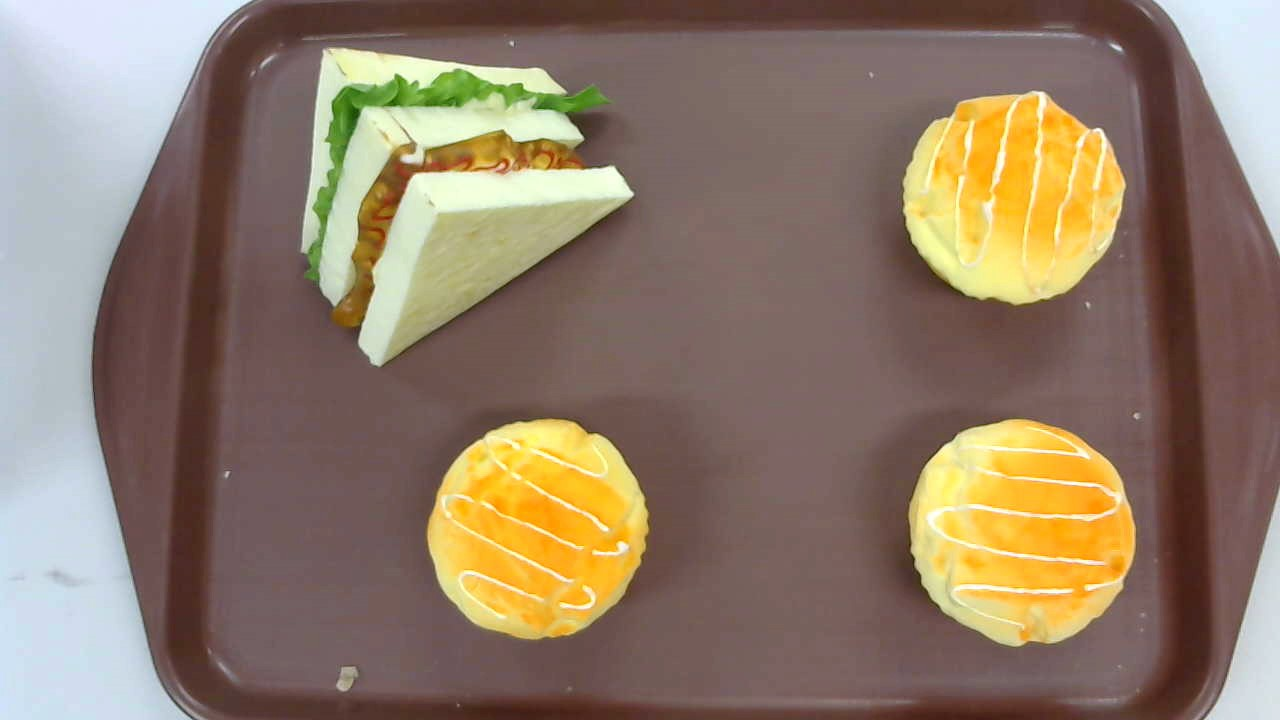cupcake: (907, 418, 1137, 647), (426, 419, 651, 640), (903, 89, 1128, 308)
sandwich: (299, 45, 636, 368)
